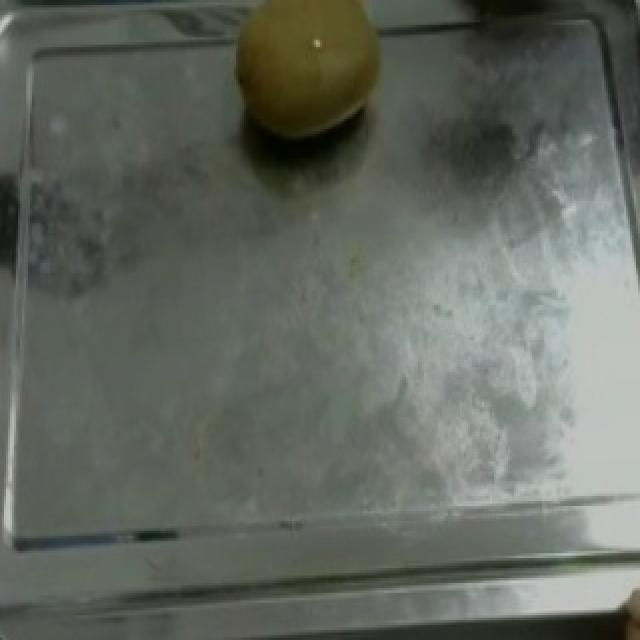Fruit: (214, 0, 406, 154)
